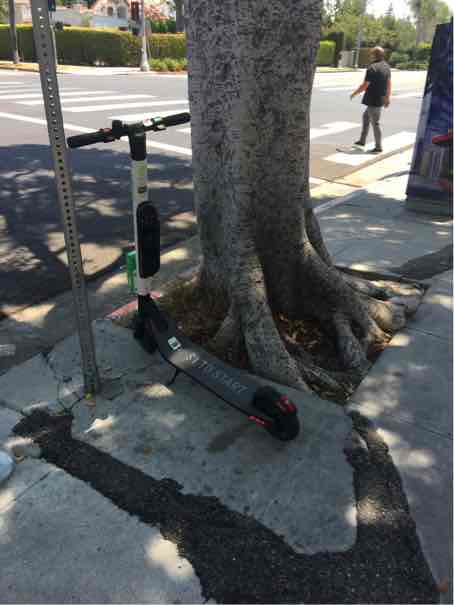scooter: (72, 106, 309, 445)
